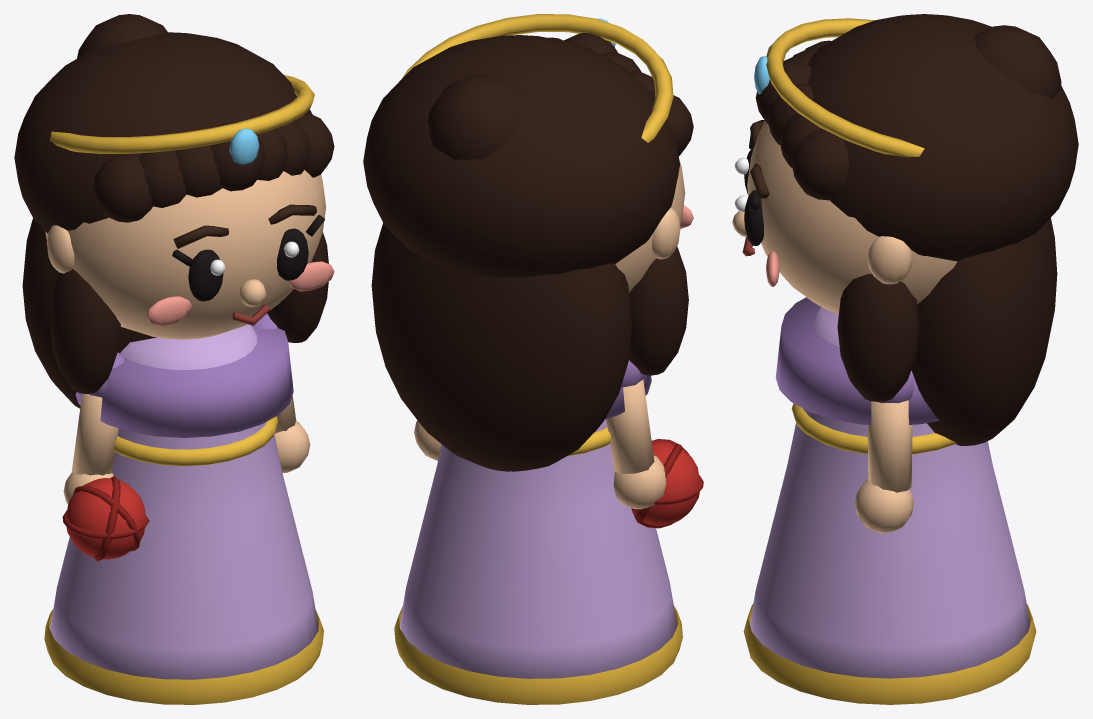
The model's file is ariadne.glb.
3 renders of one model, left to right at view 1: azimuth 30°, elevation 25°; view 2: azimuth 150°, elevation 25°; view 3: azimuth 270°, elevation 25°, orthographic. The views are drawn at different scales.
Visible parts, largest first — view 1: CabecaMalha, Corpo, NoveloMalha, BracoDMalha, BracoEMalha; view 2: CabecaMalha, Corpo, BracoDMalha, NoveloMalha, BracoEMalha; view 3: CabecaMalha, Corpo, BracoEMalha.
Part boxes in pixels (x1,y1,x2,y2): CabecaMalha: (14, 14, 334, 408); Corpo: (44, 324, 323, 704); NoveloMalha: (62, 476, 149, 561); BracoDMalha: (63, 352, 124, 504); BracoEMalha: (251, 313, 310, 473); CabecaMalha: (363, 14, 693, 471); Corpo: (394, 375, 682, 704); BracoDMalha: (606, 360, 666, 509); NoveloMalha: (631, 439, 703, 528); BracoEMalha: (414, 420, 441, 460); CabecaMalha: (732, 14, 1078, 446); Corpo: (743, 297, 1036, 704); BracoEMalha: (854, 373, 914, 533).
Bounding box in the file's own units: 0.5685 × 1.18 × 0.606.
